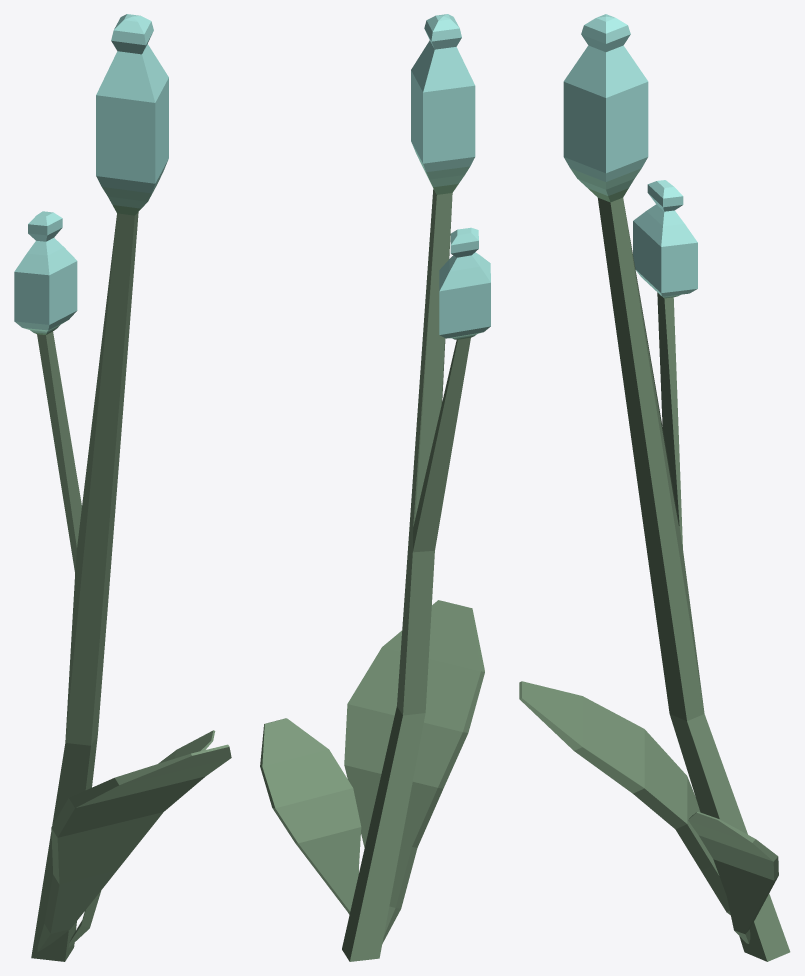
Rendered from plante_1_etape_3_v2.fbx.
3 views of the same model, side by side, from view 1: azimuth 30°, elevation 25°; view 2: azimuth 150°, elevation 25°; view 3: azimuth 270°, elevation 25° (orthographic). The views are drawn at different scales.
Visible parts, largest first — view 1: stage_3_v2; view 2: stage_3_v2; view 3: stage_3_v2.
Part boxes in pixels (left/top/right/bottom): stage_3_v2: left=14, top=14, right=231, bottom=961; stage_3_v2: left=260, top=14, right=490, bottom=961; stage_3_v2: left=519, top=14, right=790, bottom=961.
Size of the model in its own units: 0.927 by 3.87 by 1.02.
